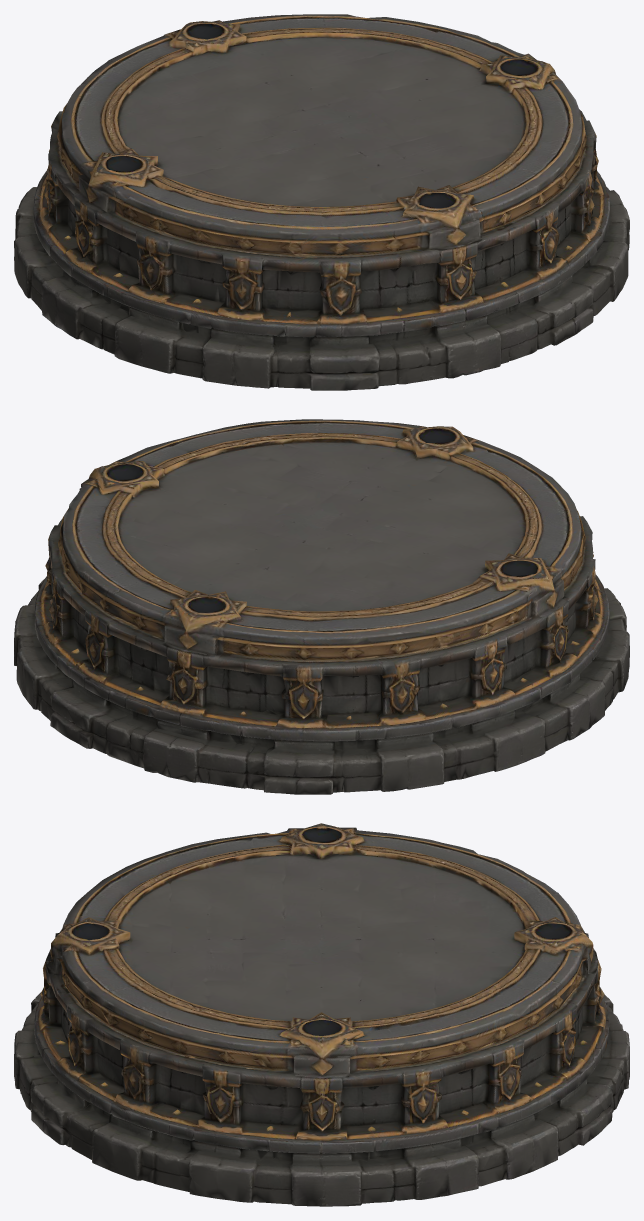
The model's file is hero-pedestal.glb.
3 renders of one model, top to bottom at view 1: azimuth 30°, elevation 25°; view 2: azimuth 150°, elevation 25°; view 3: azimuth 270°, elevation 25°, orthographic.
Visible parts, largest first — view 1: Hero_Pedestal; view 2: Hero_Pedestal; view 3: Hero_Pedestal.
Boxes of the visible parts, left/top/right/bottom form: Hero_Pedestal: left=14, top=14, right=629, bottom=390; Hero_Pedestal: left=14, top=419, right=629, bottom=794; Hero_Pedestal: left=14, top=823, right=629, bottom=1206.
Bounding box in the file's own units: 1 × 0.2633 × 0.9974.
Materials: 1 (1 with a texture image).
